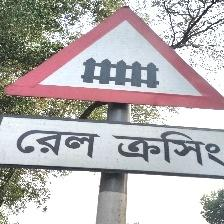Rail-crossing: (0, 7, 224, 180)
